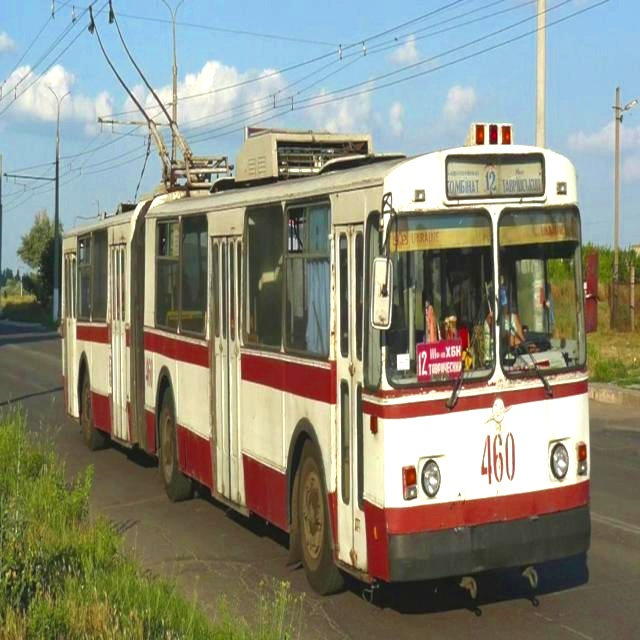bus: (16, 112, 606, 605)
